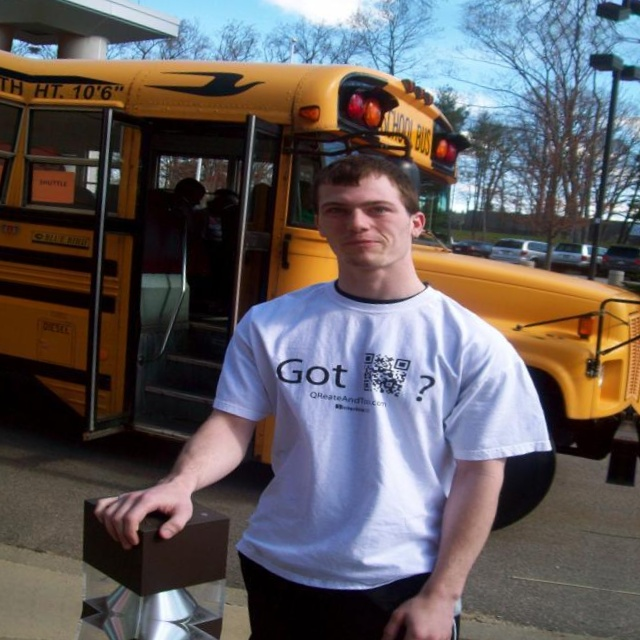qr-code: (359, 352, 411, 397)
